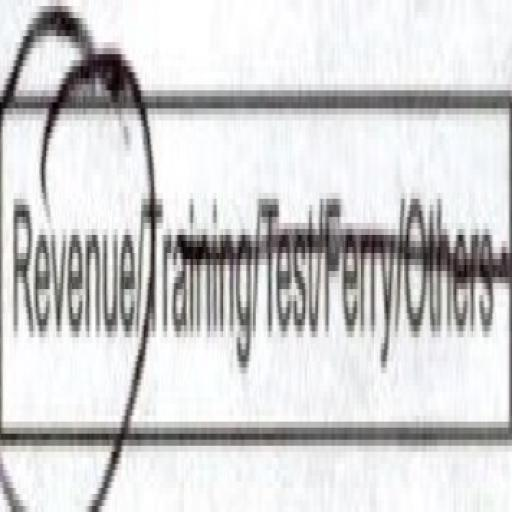check: (2, 0, 146, 511)
